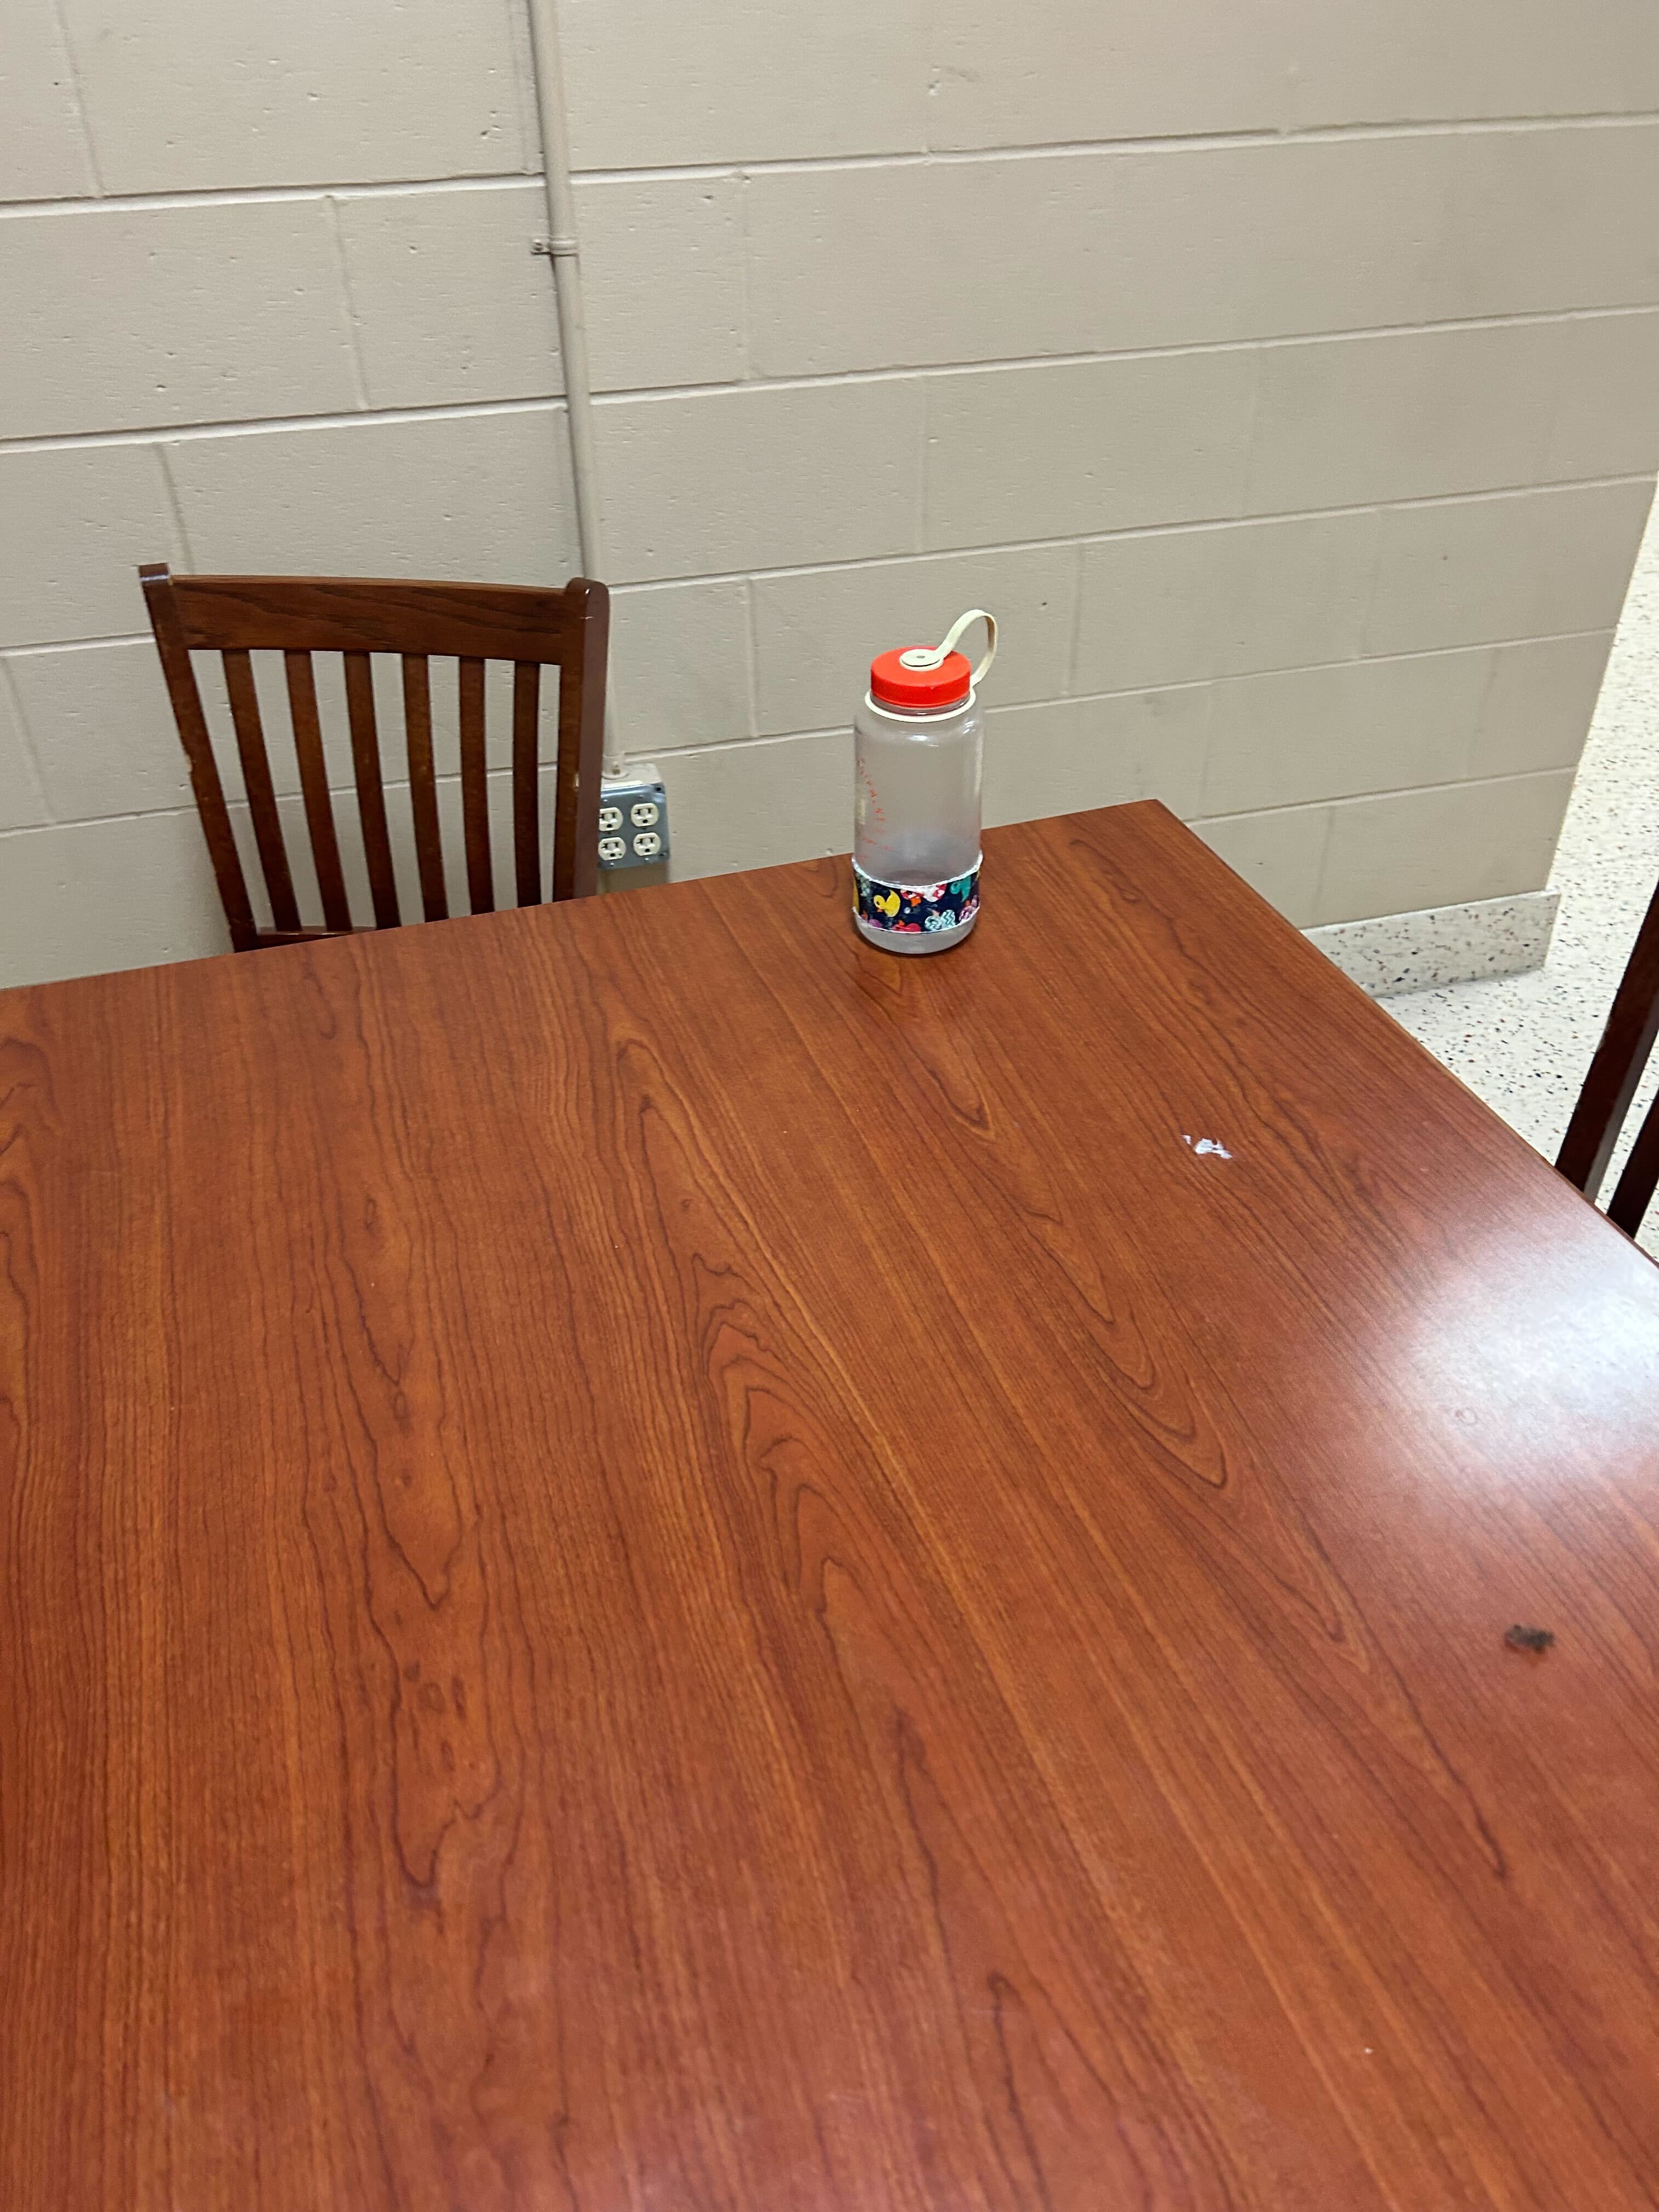bottle: (849, 596, 1000, 967)
